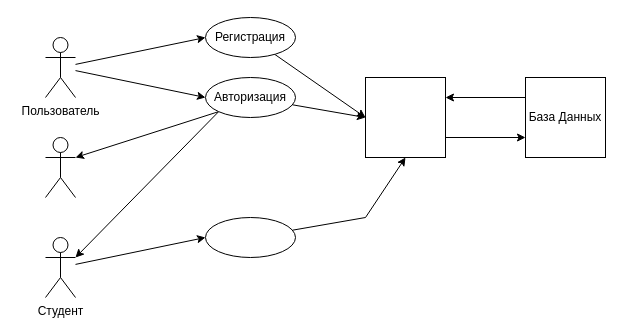
The diagram is 623 pixels wide and 336 high, and some of its shapes have lost their labels. The box of each missing label's shape, as (x1, y1, x2, y2) in pixels:
Преподаватель: (44, 136, 76, 198)
Решение задач: (204, 216, 296, 258)
Сервер: (364, 76, 446, 158)
